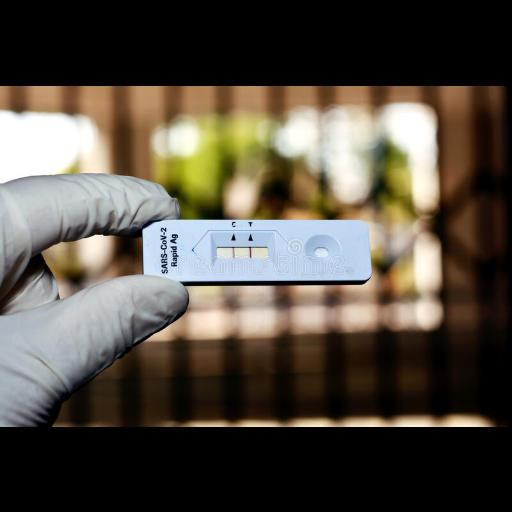Pos: (143, 220, 371, 278)
